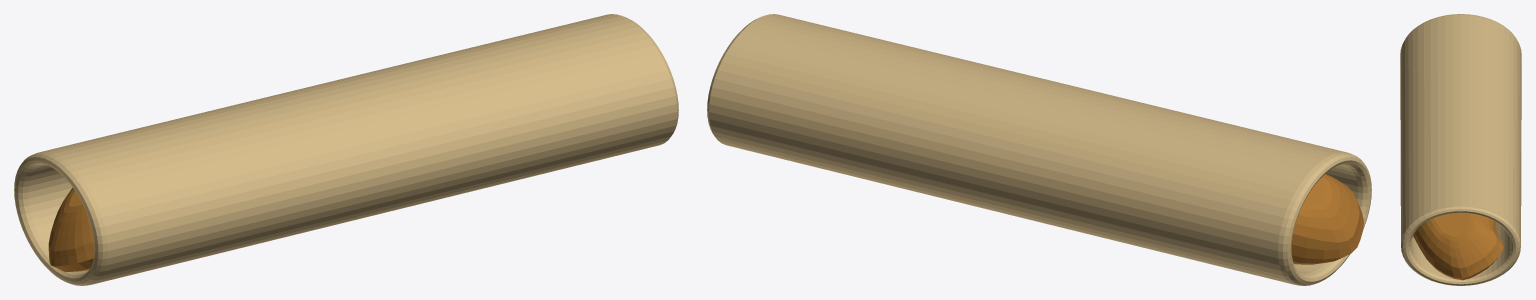
The model's file is chickenWrap.fbx.
The picture shows the model from 3 angles, left to right: view 1: azimuth 30°, elevation 25°; view 2: azimuth 150°, elevation 25°; view 3: azimuth 270°, elevation 25°; orthographic projection. The views are drawn at different scales.
Parts seen in each view (by area): view 1: Chicken Wrap; view 2: Chicken Wrap; view 3: Chicken Wrap.
Boxes of the visible parts, x1,y1,x2,y2 form: Chicken Wrap: (14, 14, 678, 285); Chicken Wrap: (707, 14, 1371, 285); Chicken Wrap: (1400, 14, 1521, 285).
Size of the model in its own units: 8.92 by 35.89 by 6.51.
